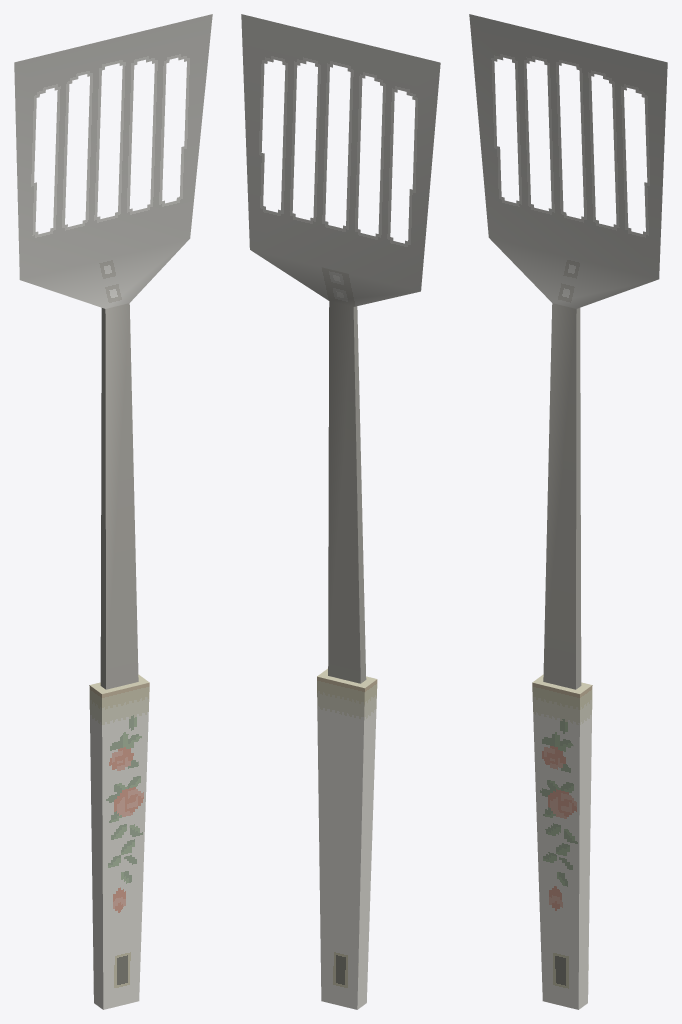
The model's file is 0482_Slotted_Spatula.glb.
3 views of the same model, side by side, from view 1: azimuth 30°, elevation 25°; view 2: azimuth 150°, elevation 25°; view 3: azimuth 330°, elevation 25° (orthographic).
Visible parts, largest first — view 1: part_0; view 2: part_0; view 3: part_0.
Part boxes in pixels (left/top/right/bottom): part_0: left=14, top=14, right=212, bottom=1009; part_0: left=241, top=14, right=440, bottom=1009; part_0: left=469, top=14, right=667, bottom=1009.
Bounding box in the file's own units: 0.0969 × 0.4485 × 0.0164.
1 material, 1 textured.
